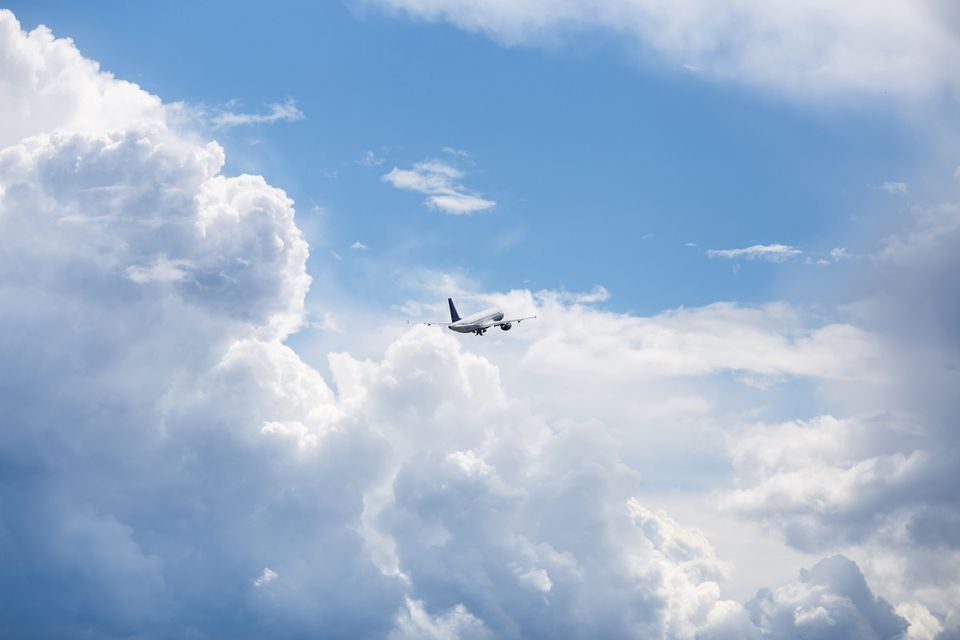plane: (407, 293, 542, 336)
